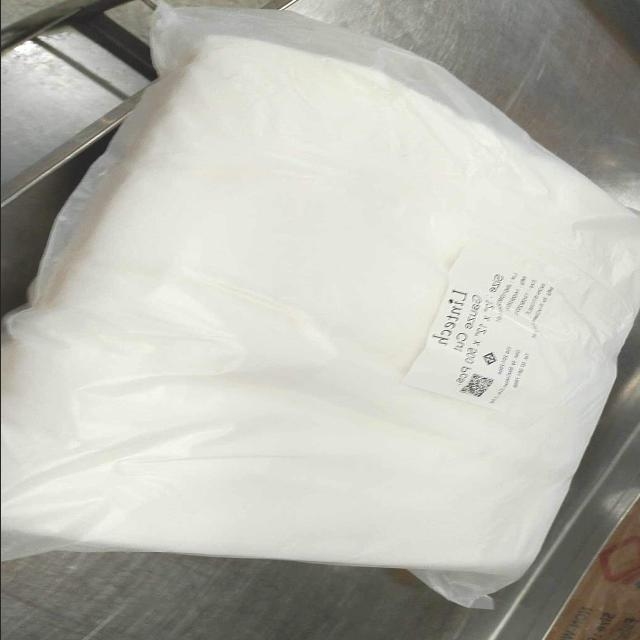General: (2, 4, 637, 610), (401, 243, 559, 410)
